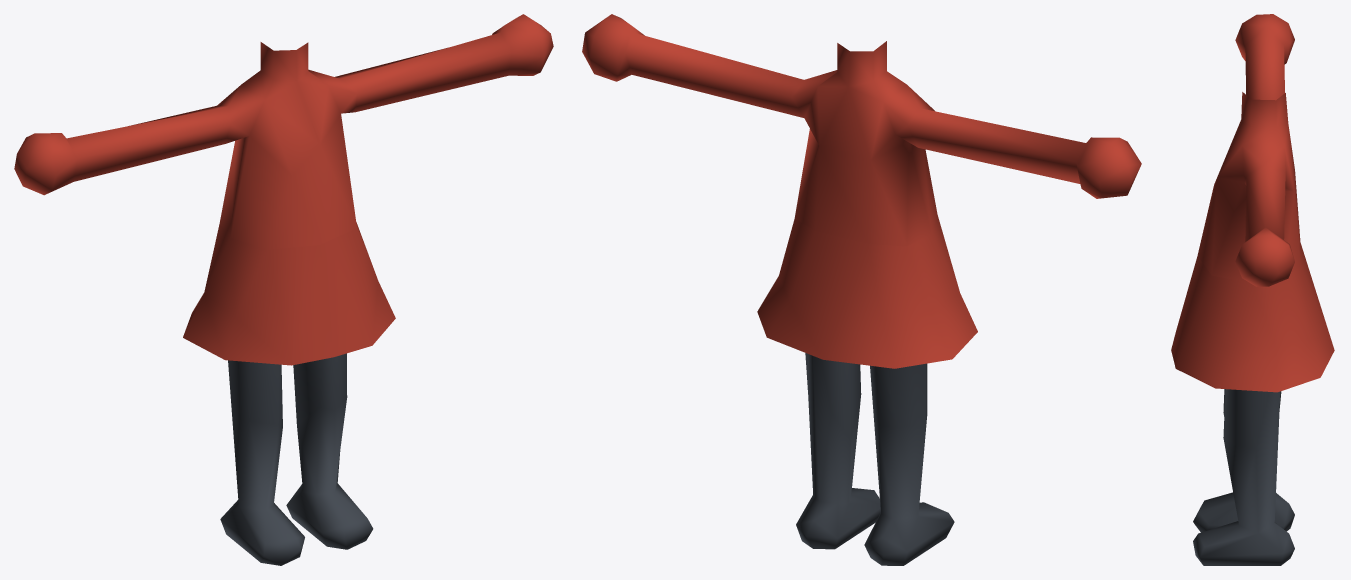
The model's file is Female3.gltf.
3 views of the same model, side by side, from view 1: azimuth 30°, elevation 25°; view 2: azimuth 150°, elevation 25°; view 3: azimuth 270°, elevation 25° (orthographic). The views are drawn at different scales.
Visible parts, largest first — view 1: シャツ.001_Mesh_0002.rip_mesh0000.011, ズボン.001_Mesh_0002.rip_mesh0000.001, ズボン.001_Mesh_0002.rip_mesh0000.010; view 2: シャツ.001_Mesh_0002.rip_mesh0000.011, ズボン.001_Mesh_0002.rip_mesh0000.001, ズボン.001_Mesh_0002.rip_mesh0000.010; view 3: シャツ.001_Mesh_0002.rip_mesh0000.011, ズボン.001_Mesh_0002.rip_mesh0000.010, ズボン.001_Mesh_0002.rip_mesh0000.001.
Boxes of the visible parts, x1,y1,x2,y2 form: シャツ.001_Mesh_0002.rip_mesh0000.011: [14, 14, 553, 365]; ズボン.001_Mesh_0002.rip_mesh0000.001: [220, 360, 304, 565]; ズボン.001_Mesh_0002.rip_mesh0000.010: [286, 353, 373, 549]; シャツ.001_Mesh_0002.rip_mesh0000.011: [582, 14, 1141, 368]; ズボン.001_Mesh_0002.rip_mesh0000.001: [864, 363, 954, 565]; ズボン.001_Mesh_0002.rip_mesh0000.010: [796, 353, 880, 549]; シャツ.001_Mesh_0002.rip_mesh0000.011: [1171, 14, 1334, 392]; ズボン.001_Mesh_0002.rip_mesh0000.010: [1193, 389, 1294, 565]; ズボン.001_Mesh_0002.rip_mesh0000.001: [1193, 389, 1294, 532].
Size of the model in its own units: 1.42 by 1.25 by 0.4175.
Materials: 2 (2 with a texture image).
